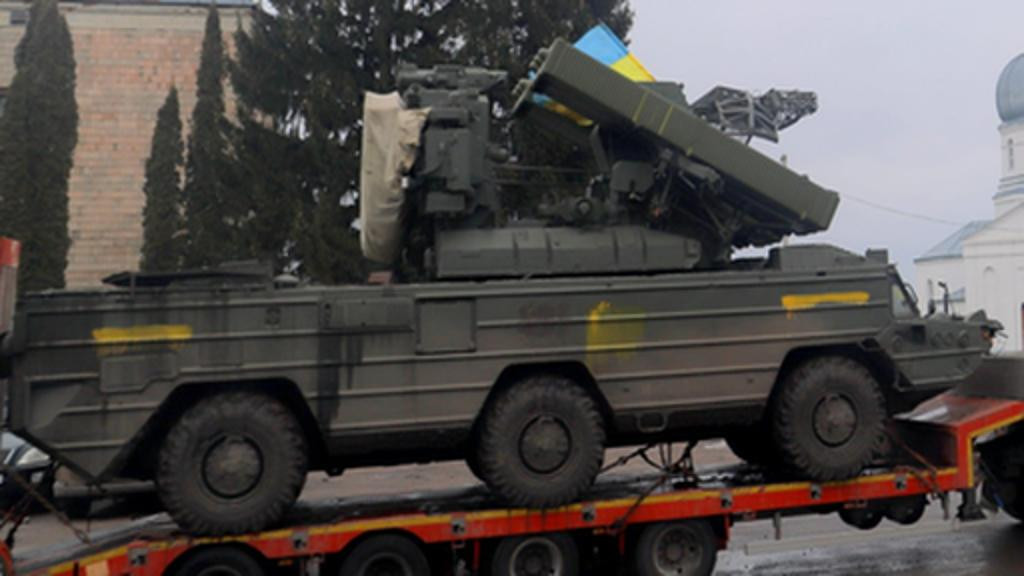MLRS: (6, 36, 1000, 530)
